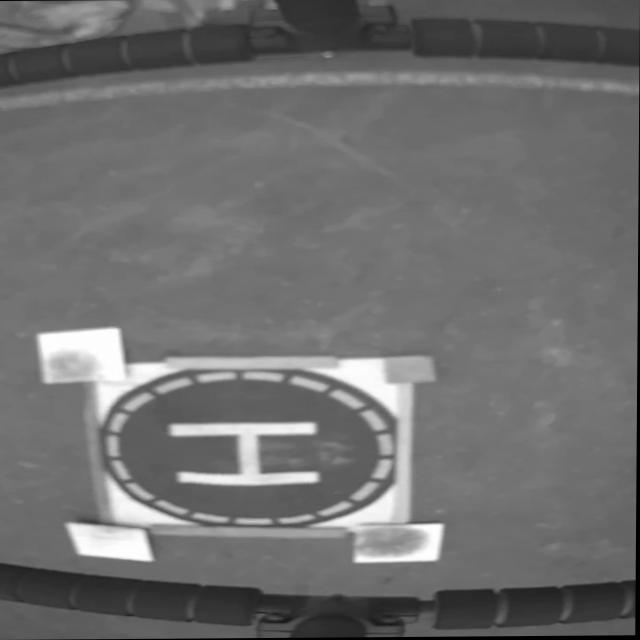Helipad: (168, 423, 322, 484)
